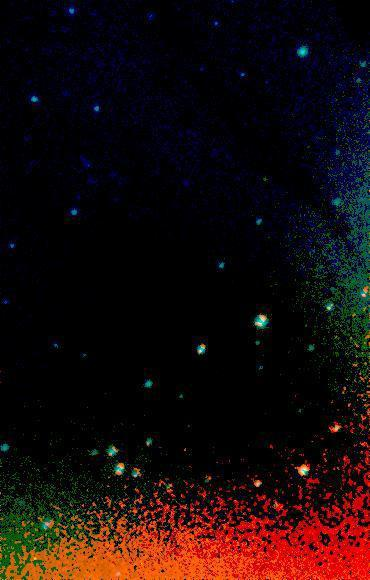star: (249, 164, 279, 194)
